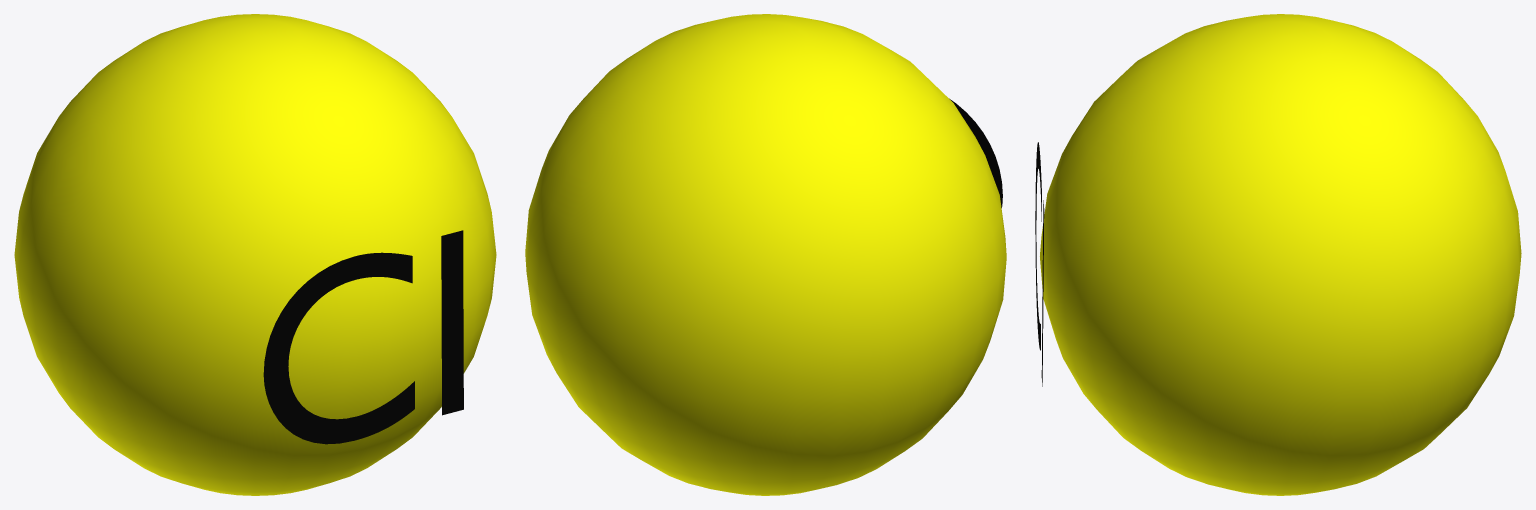
The picture shows the model from 3 angles, left to right: view 1: azimuth 30°, elevation 25°; view 2: azimuth 150°, elevation 25°; view 3: azimuth 270°, elevation 25°; orthographic projection.
Parts seen in each view (by area): view 1: 구체, 텍스트; view 2: 구체, 텍스트; view 3: 구체, 텍스트.
Boxes of the visible parts, bbox=[...] form: 구체: bbox=[14, 14, 496, 495]; 텍스트: bbox=[263, 230, 463, 444]; 구체: bbox=[525, 14, 1006, 495]; 텍스트: bbox=[949, 98, 1002, 207]; 구체: bbox=[1040, 14, 1521, 495]; 텍스트: bbox=[1035, 142, 1044, 386].
Bounding box in the file's own units: 250 × 250 × 252.
